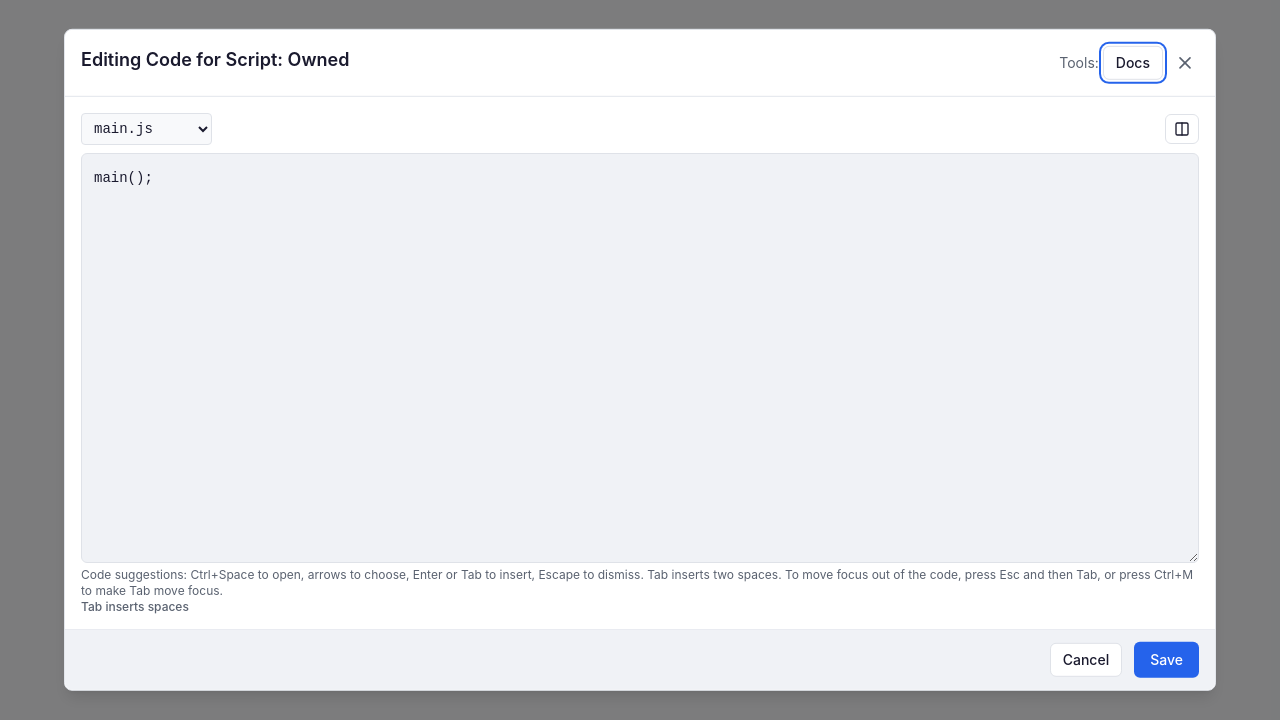
Test: ScriptEditorDialog › opens the first file in one pane, colored by its file type; each pane picks its file
Check: the text box named "main.js" holds "main();", box x1=82 y1=154 x2=1198 y2=562
Step 1. Select "template.vm" in the dropdown named "File in editor 1" → point(146, 129), box x1=81 y1=113 x2=212 y2=145
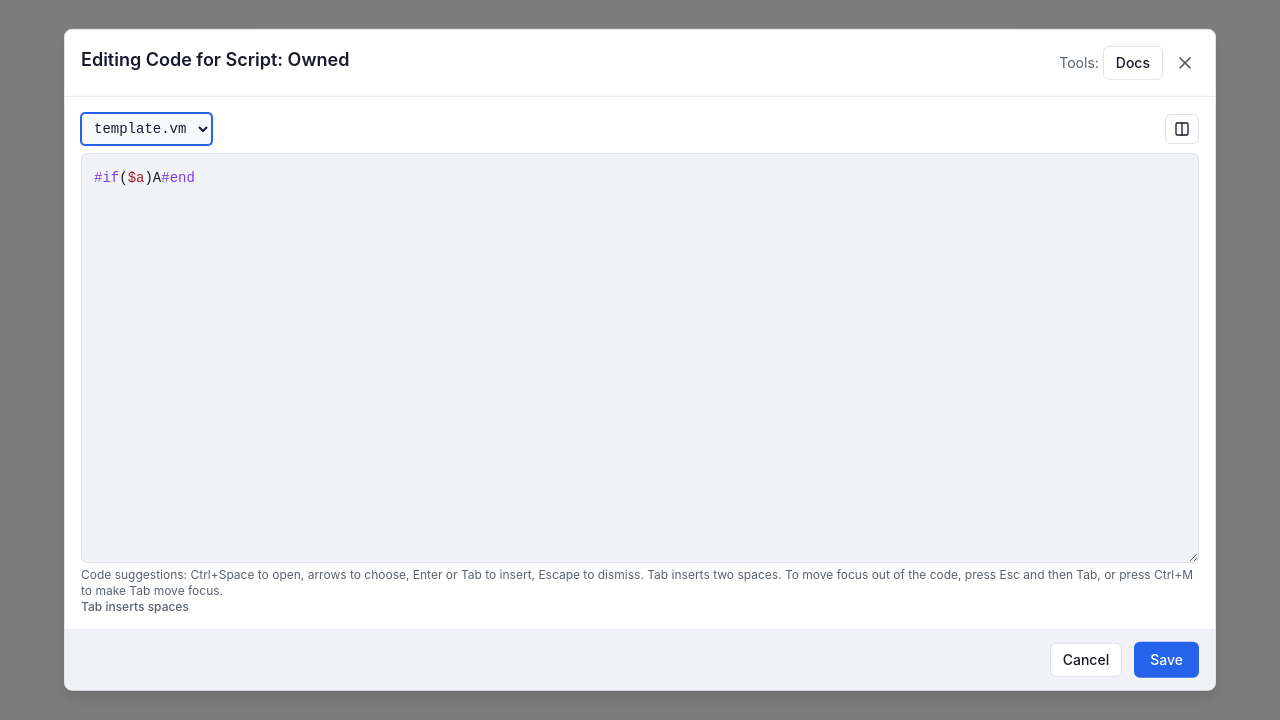
Check: the text box named "template.vm" holds "#if($a)A#end", box x1=82 y1=154 x2=1198 y2=562
Check: the text "#if" is shown, box x1=94 y1=170 x2=119 y2=186
